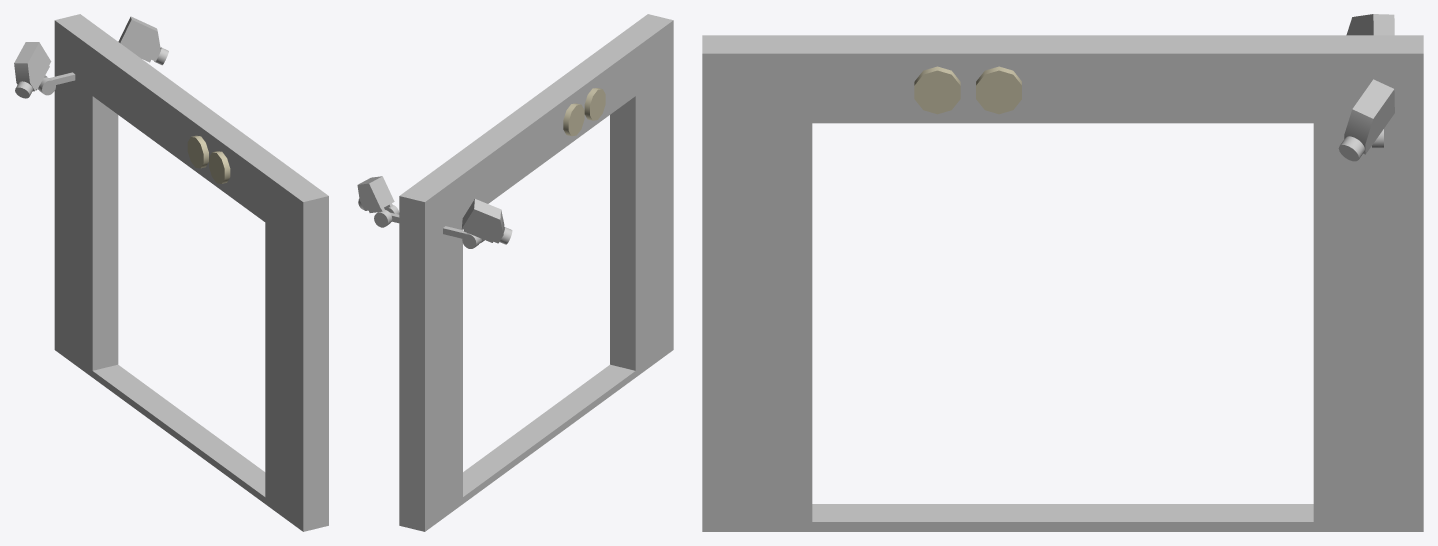
Rendered from door2_frame.fbx.
The picture shows the model from 3 angles, left to right: view 1: azimuth 30°, elevation 25°; view 2: azimuth 150°, elevation 25°; view 3: azimuth 270°, elevation 25°; orthographic projection. The views are drawn at different scales.
Visible parts, largest first — view 1: Mesh; view 2: Mesh; view 3: Mesh.
Part boxes in pixels (left/top/right/bottom): Mesh: left=14, top=14, right=328, bottom=531; Mesh: left=357, top=14, right=673, bottom=531; Mesh: left=702, top=14, right=1423, bottom=531.
Size of the model in its own units: 116 by 240 by 328.
